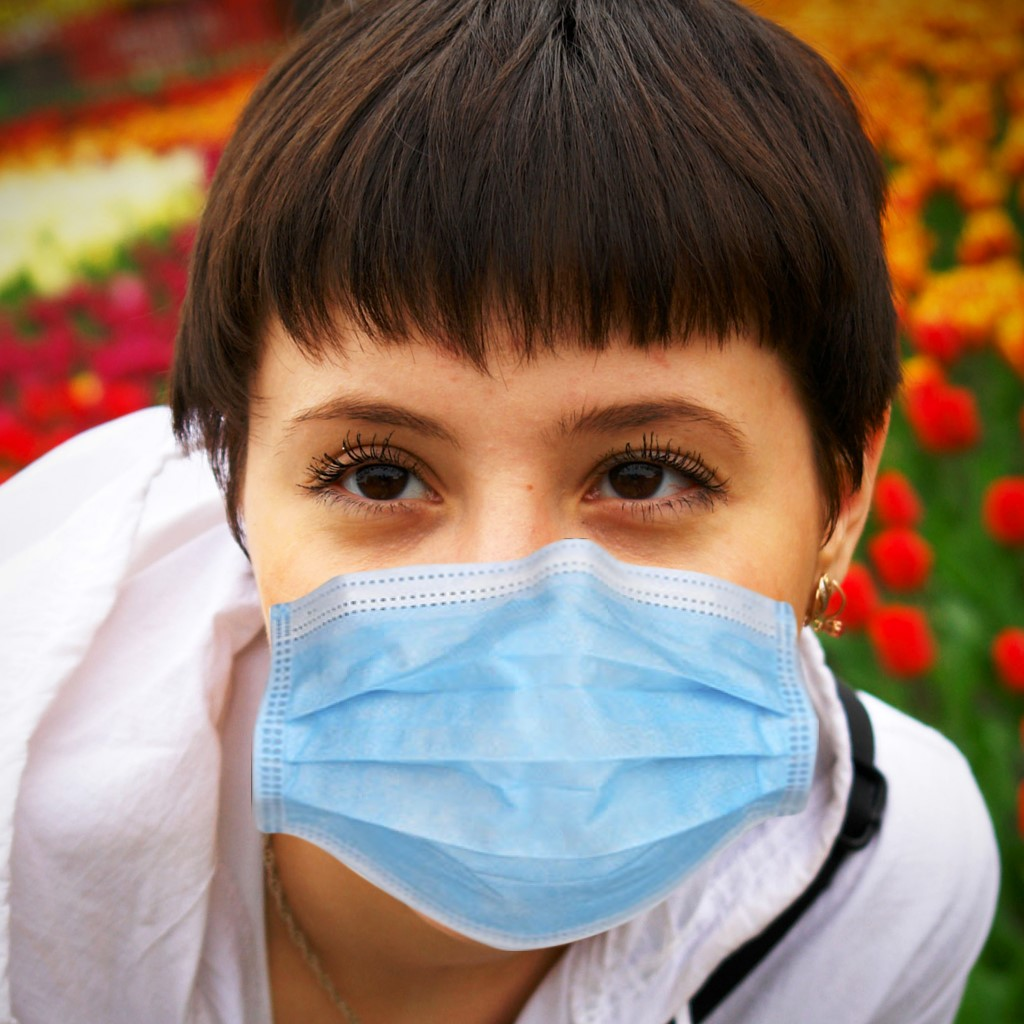con_mascara: (251, 231, 847, 923)
